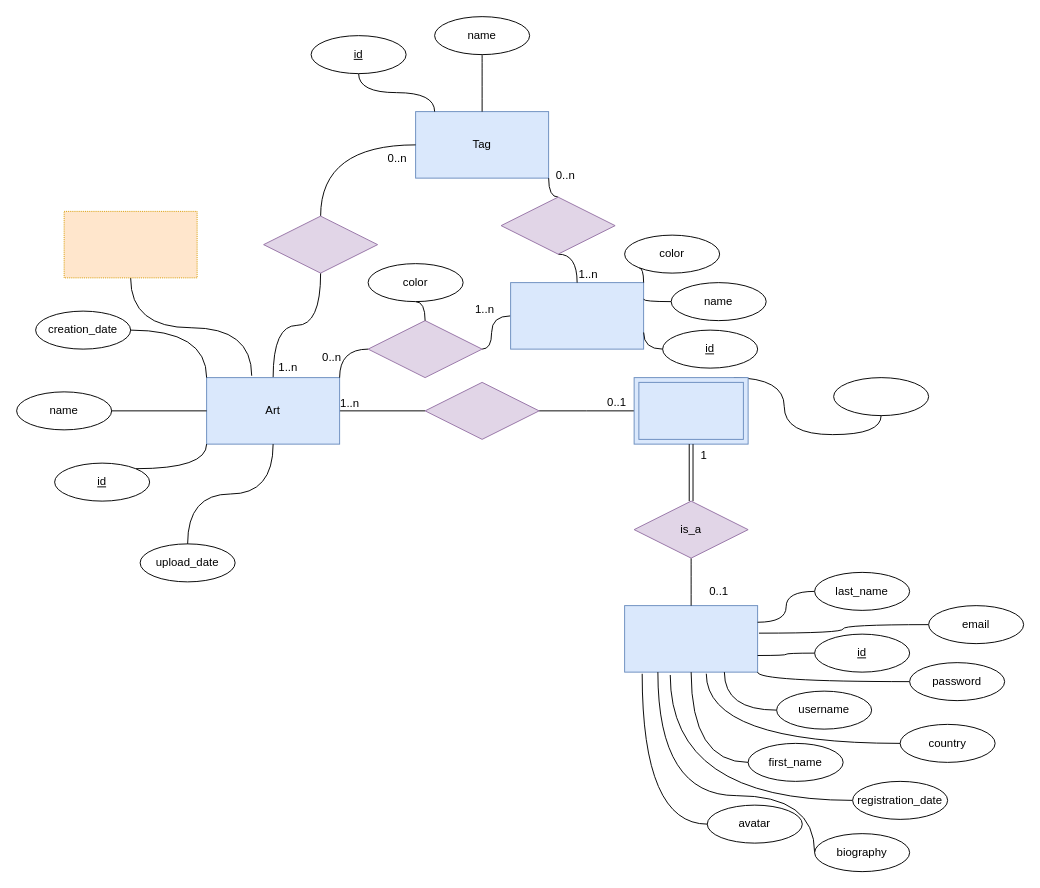
This 1040x888 diagram has some shape labels left out. Here are the shapes that lost their labels. From the top down, the centre of each, then its label:
At [130,244]: "Typ (Enum) { AUDIO, 2D_VISUAL, 3D_VISUAL; }".
At [320,244]: "has_a".
At [557,225]: "defined_by".
At [577,315]: "Showroom".
At [424,349]: "displayed_in".
At [481,410]: "created_by".
At [690,410]: "Artist".
At [881,396]: "artist_name".
At [691,638]: "User".
